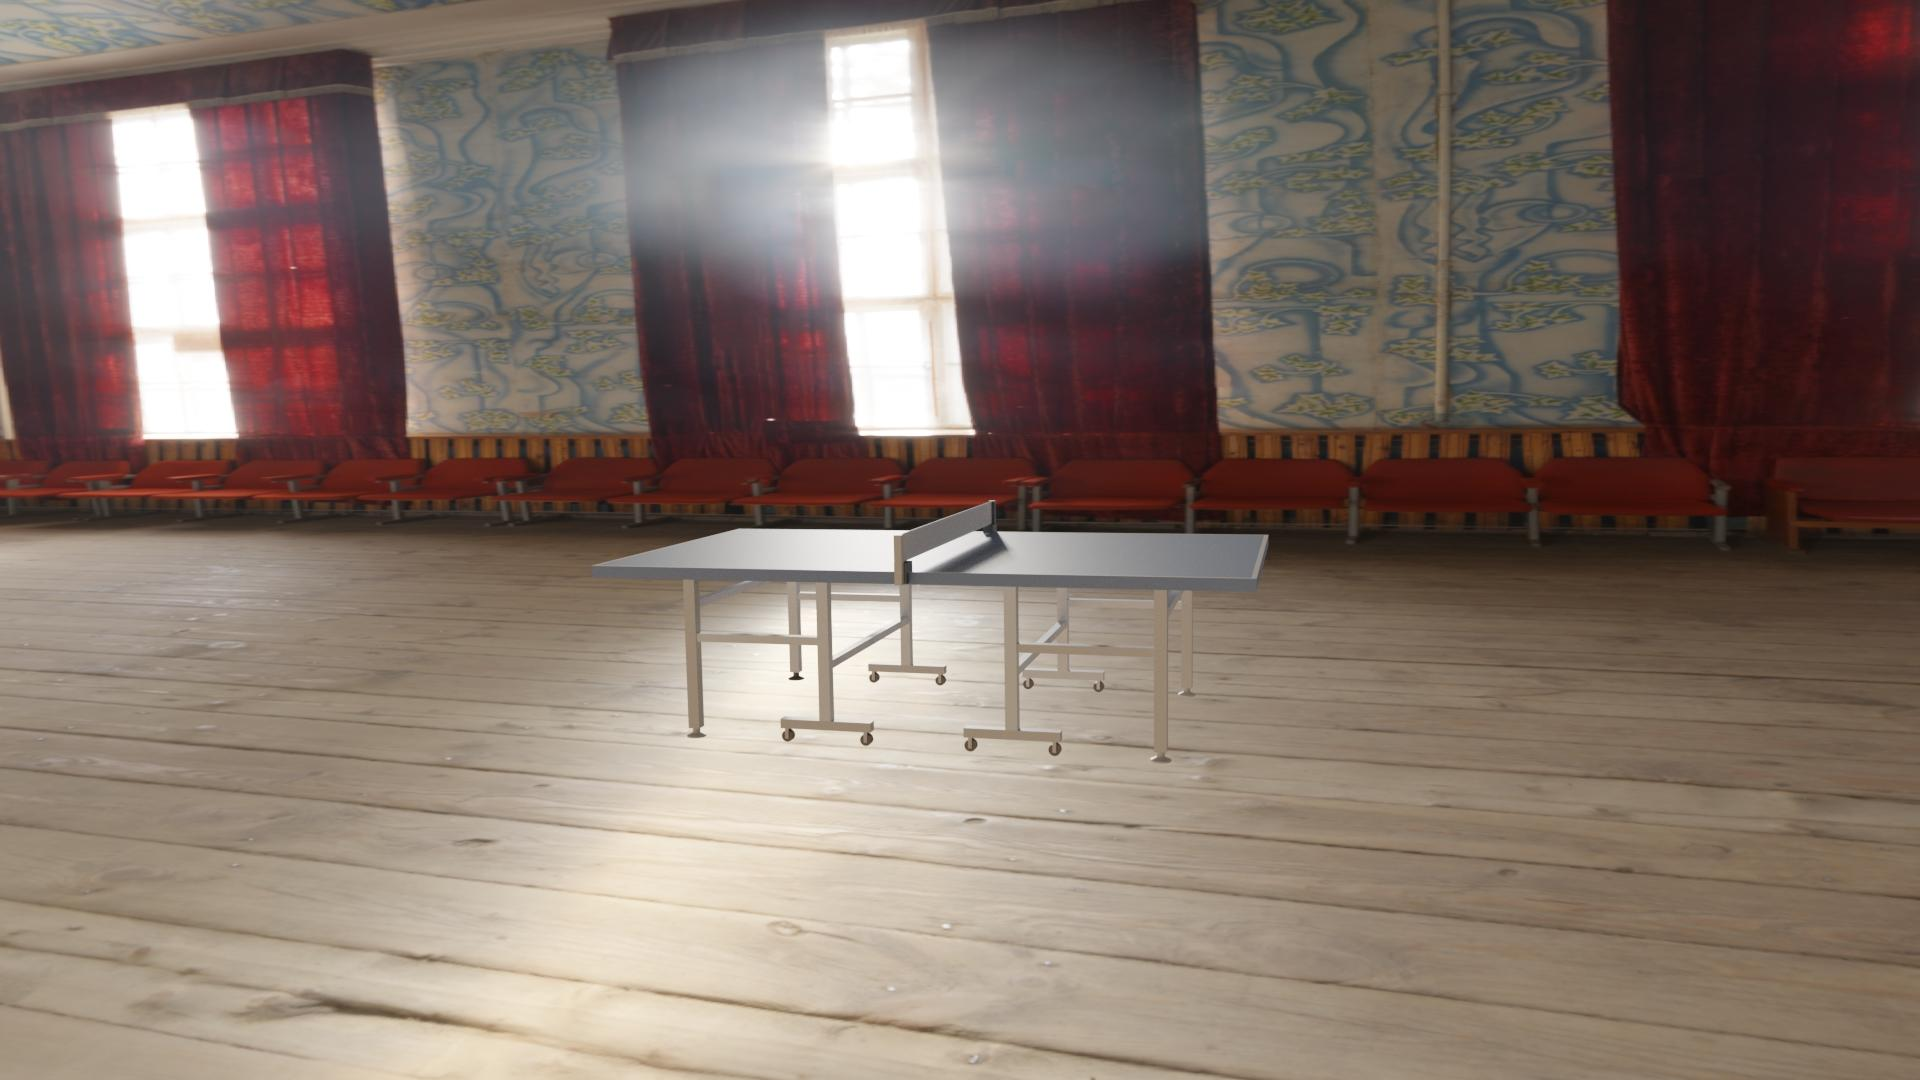table: (597, 529, 1265, 578)
